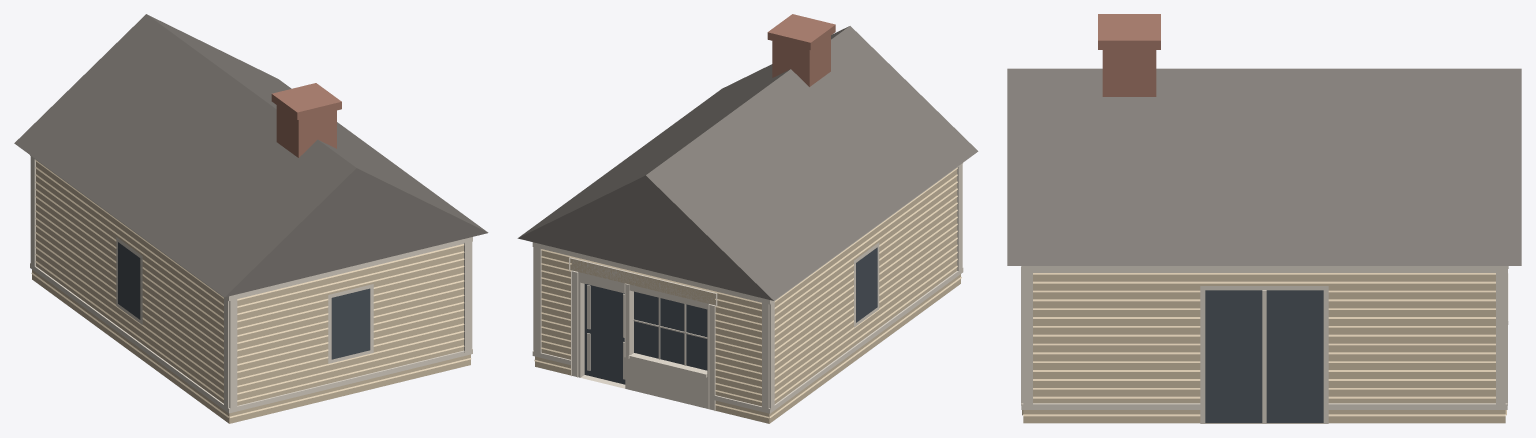
The model's file is recon_1835_south_c1_018__inferred_1835.glb.
The picture shows the model from 3 angles, left to right: view 1: azimuth 30°, elevation 25°; view 2: azimuth 150°, elevation 25°; view 3: azimuth 270°, elevation 25°; orthographic projection. The views are drawn at different scales.
Parts seen in each view (by area): view 1: recon_1835_south_c1_018__inferred_1835; view 2: recon_1835_south_c1_018__inferred_1835; view 3: recon_1835_south_c1_018__inferred_1835.
Boxes of the visible parts, bbox=[...] form: recon_1835_south_c1_018__inferred_1835: bbox=[14, 14, 488, 423]; recon_1835_south_c1_018__inferred_1835: bbox=[517, 14, 978, 423]; recon_1835_south_c1_018__inferred_1835: bbox=[1007, 14, 1521, 423].
Size of the model in its own units: 5.81 by 5.57 by 8.02.
